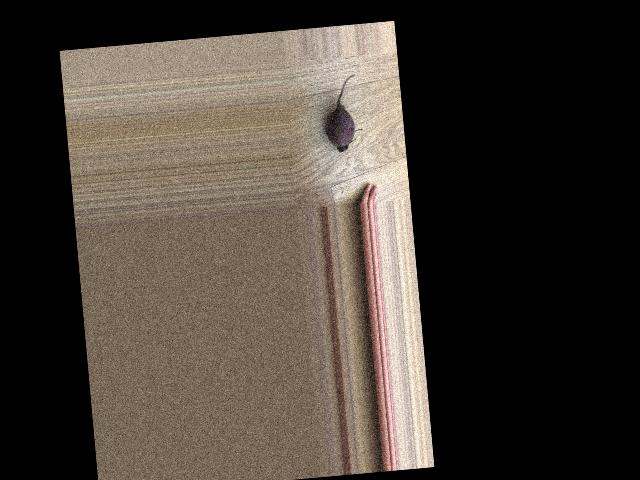beet: (321, 73, 363, 152)
